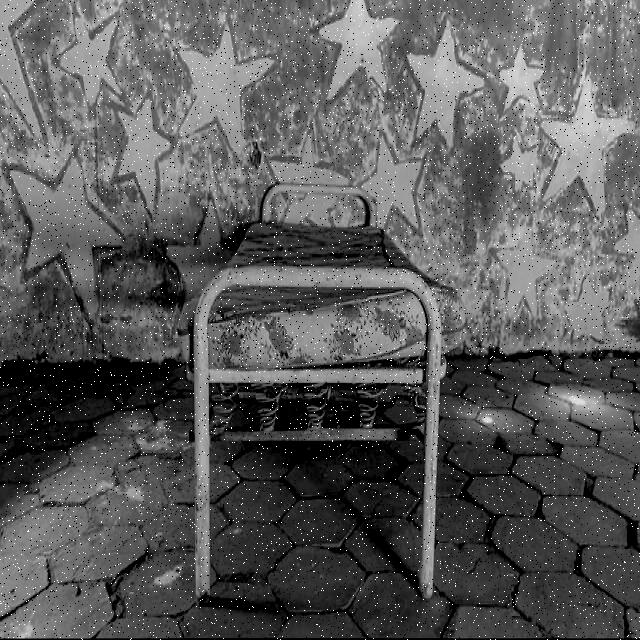bed: (187, 173, 447, 363)
